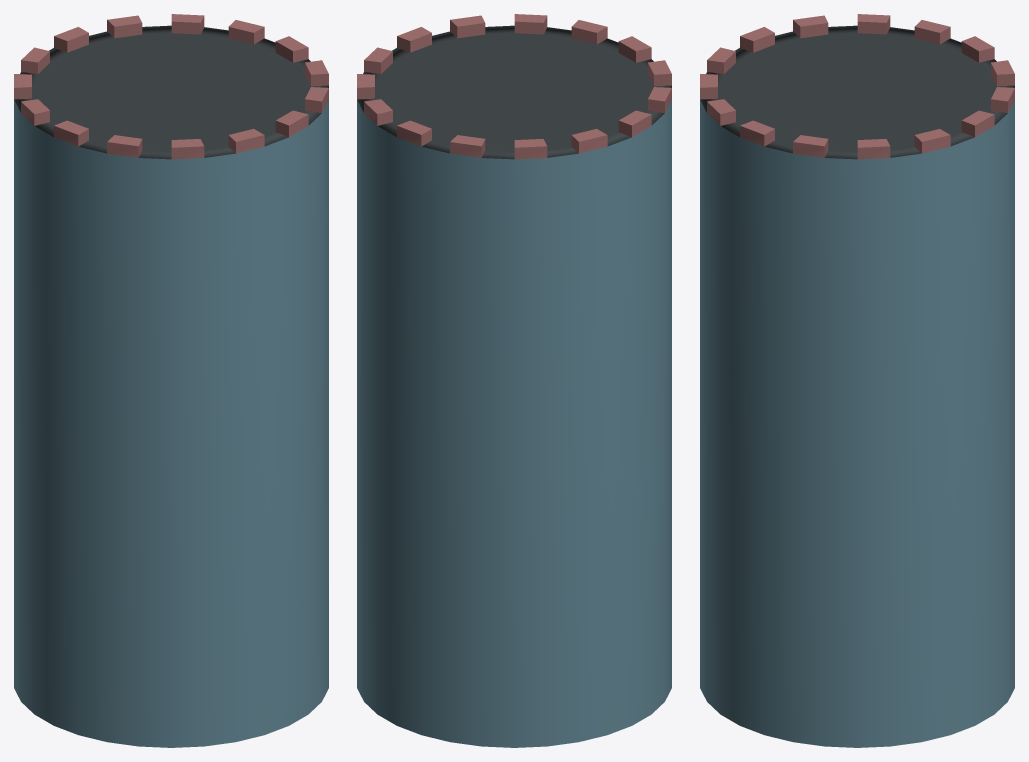
The model's file is TowerFBX.fbx.
The picture shows the model from 3 angles, left to right: view 1: azimuth 30°, elevation 25°; view 2: azimuth 150°, elevation 25°; view 3: azimuth 270°, elevation 25°; orthographic projection.
Parts seen in each view (by area): view 1: Tower; view 2: Tower; view 3: Tower.
Boxes of the visible parts, x1,y1,x2,y2 form: Tower: (14, 14, 328, 747); Tower: (357, 14, 671, 747); Tower: (700, 14, 1014, 747).
Size of the model in its own units: 30.86 by 64.58 by 30.7.
